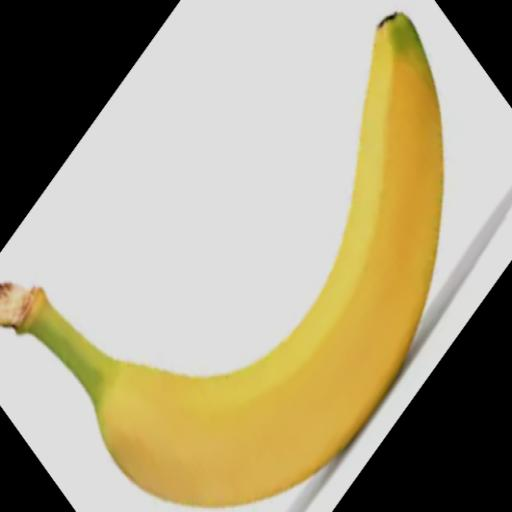banana-ripe: (0, 0, 471, 497)
